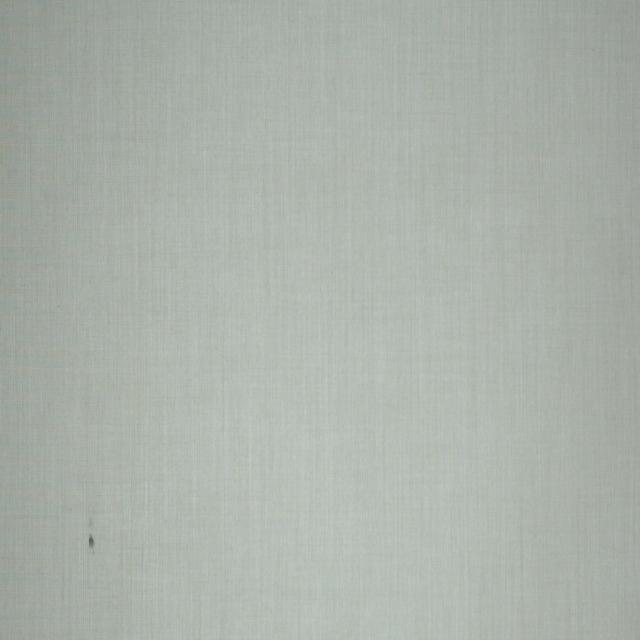dirty: (88, 534, 95, 554)
